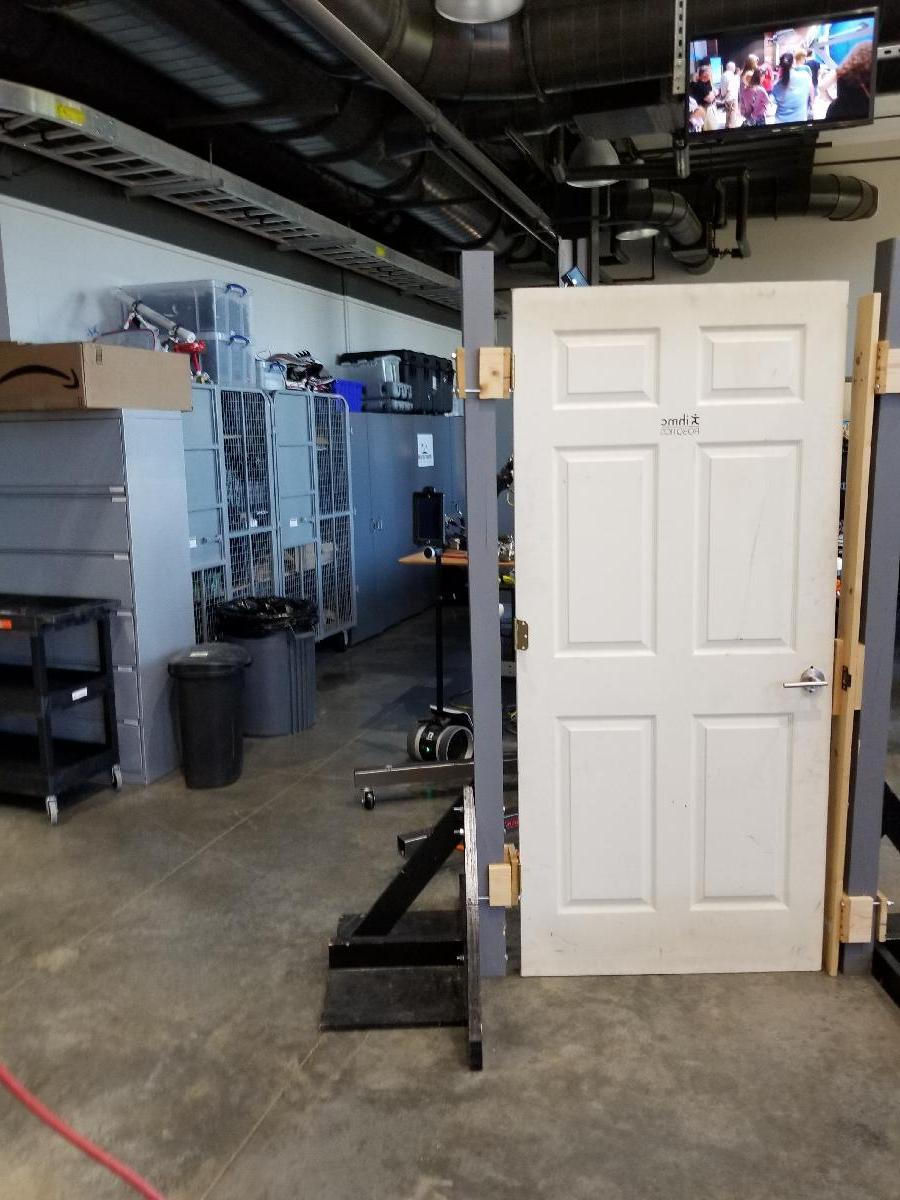door: (512, 275, 855, 981)
handle: (780, 668, 830, 694)
